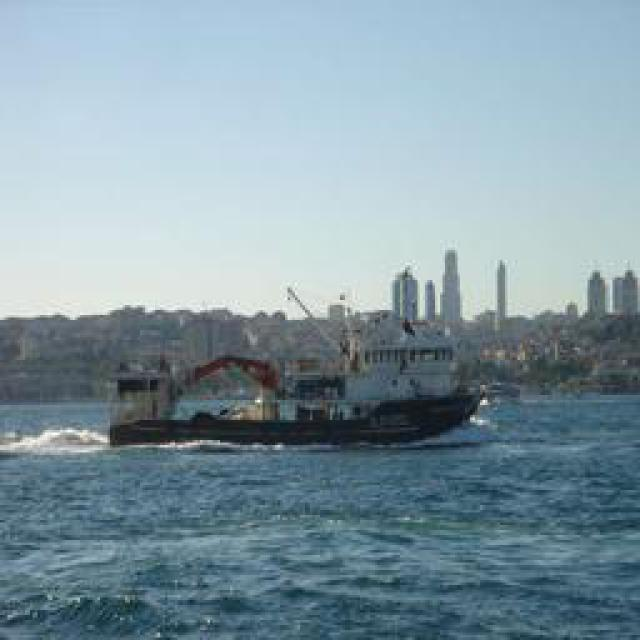Ship: (103, 313, 481, 451)
